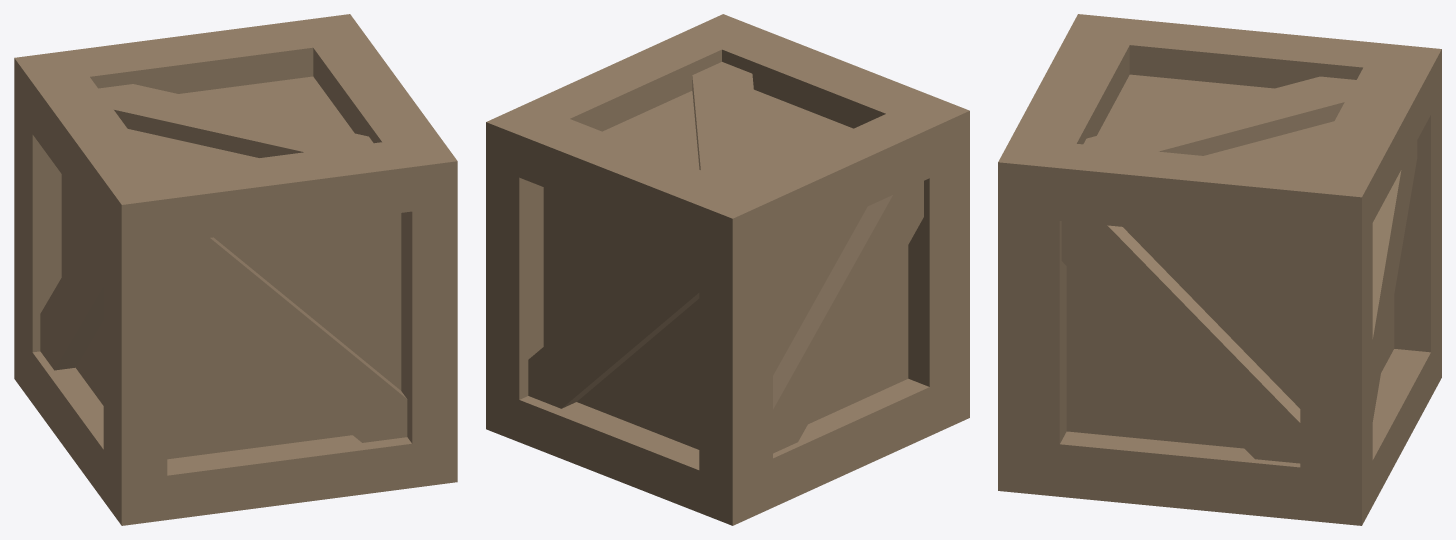
The picture shows the model from 3 angles, left to right: view 1: azimuth 30°, elevation 25°; view 2: azimuth 150°, elevation 25°; view 3: azimuth 270°, elevation 25°; orthographic projection. The views are drawn at different scales.
Parts seen in each view (by area): view 1: Cube.028; view 2: Cube.028; view 3: Cube.028.
Part boxes in pixels (x1,y1,x2,y2): Cube.028: (14, 14, 457, 525); Cube.028: (486, 14, 969, 525); Cube.028: (998, 14, 1441, 525).
Size of the model in its own units: 127 by 106 by 130.
